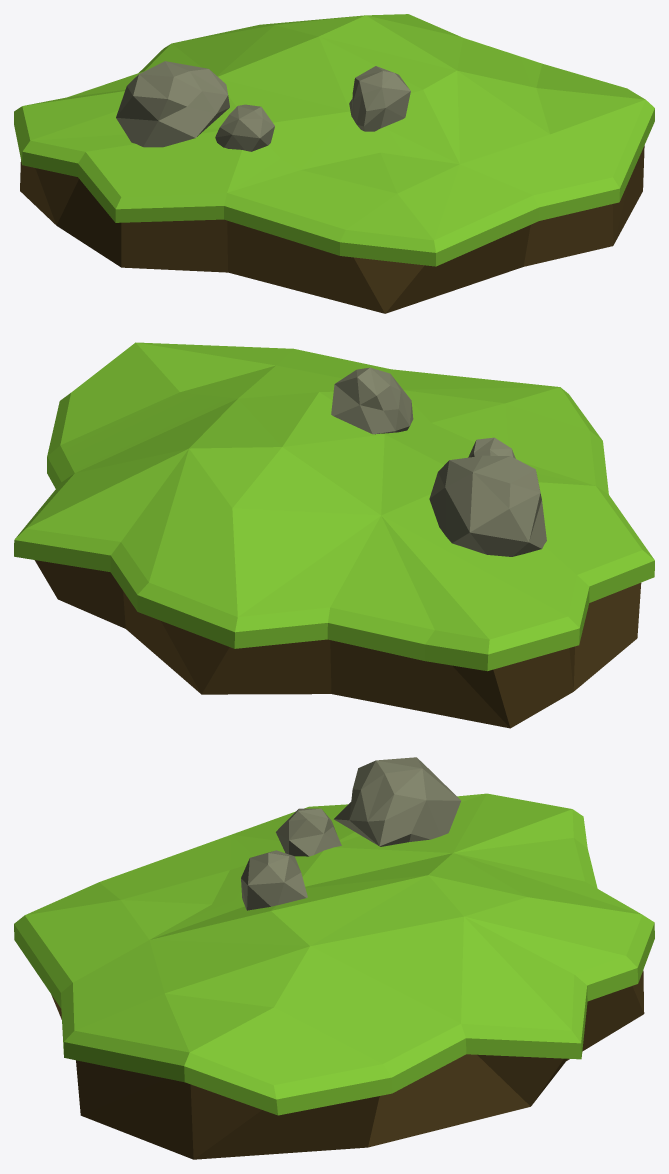
The model's file is land 1.fbx.
3 renders of one model, top to bottom at view 1: azimuth 30°, elevation 25°; view 2: azimuth 150°, elevation 25°; view 3: azimuth 270°, elevation 25°, orthographic. The views are drawn at different scales.
Visible parts, largest first — view 1: land; view 2: land; view 3: land.
Part boxes in pixels (x1=…): land: x1=14, y1=14, x2=654, y2=313; land: x1=14, y1=342, x2=654, y2=728; land: x1=14, y1=757, x2=654, y2=1159.
Size of the model in its own units: 198 by 55.35 by 181.
